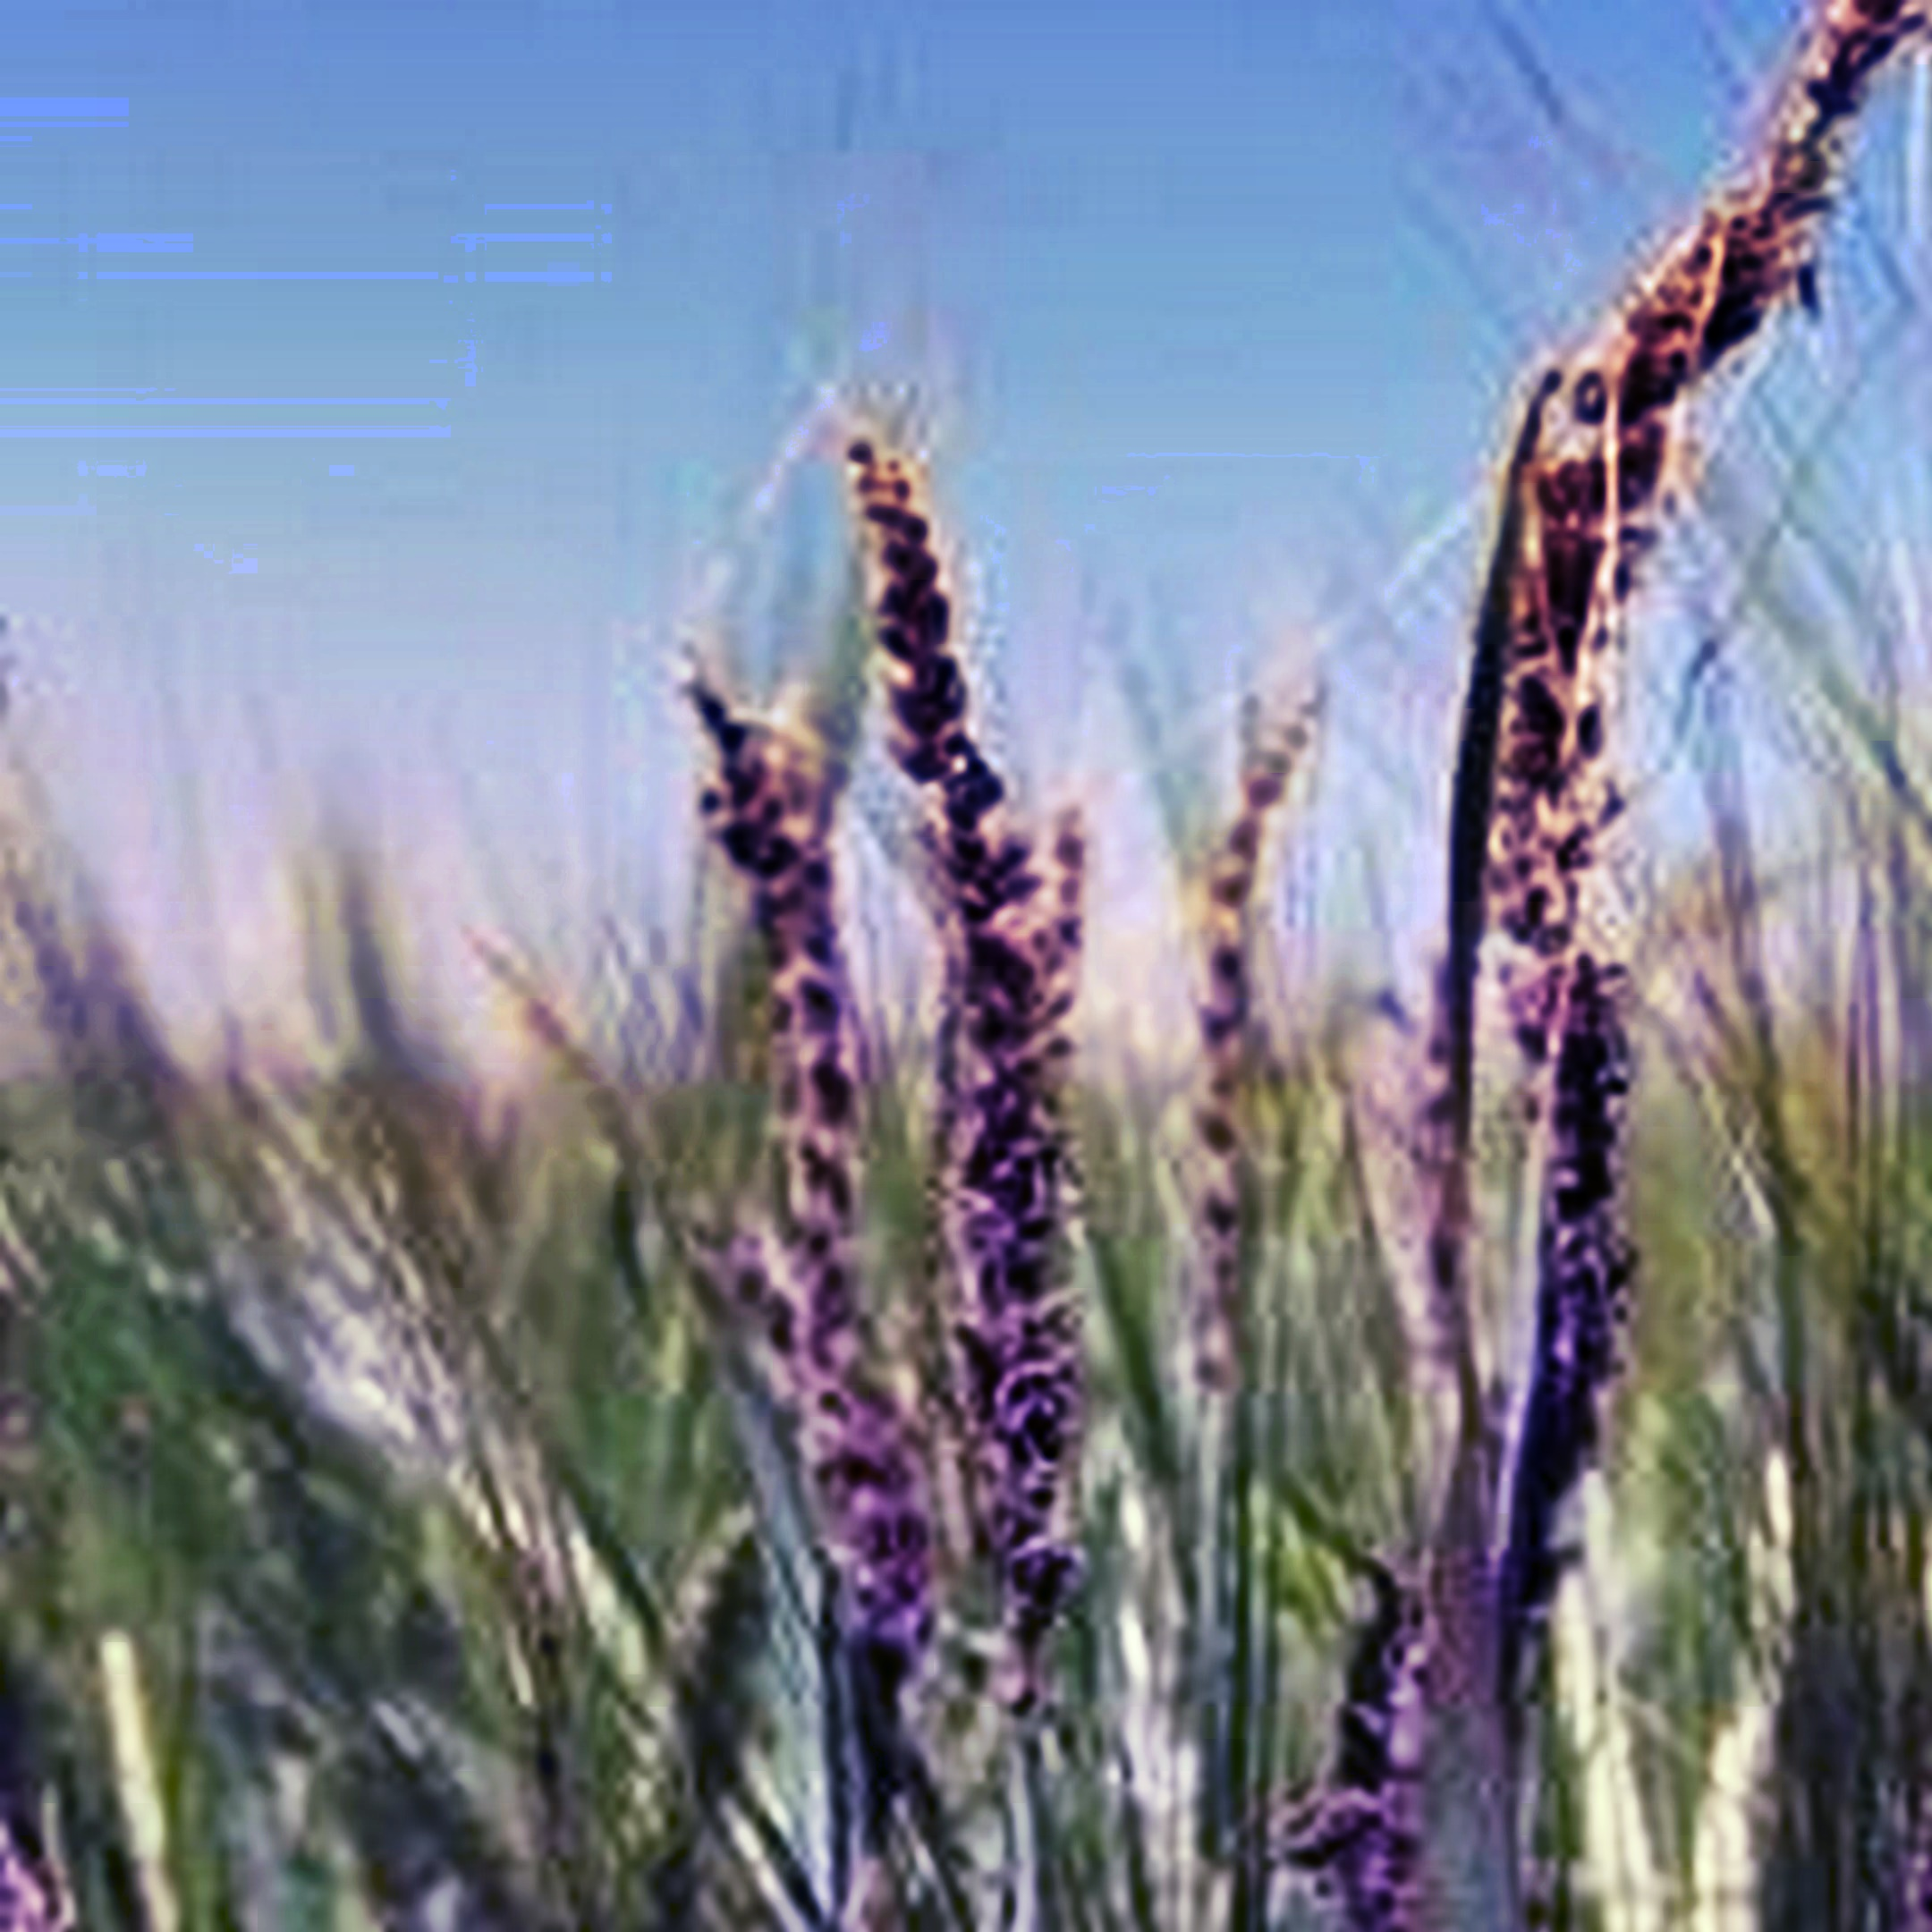Wheat Loose Smut: (750, 393, 1265, 1654)
